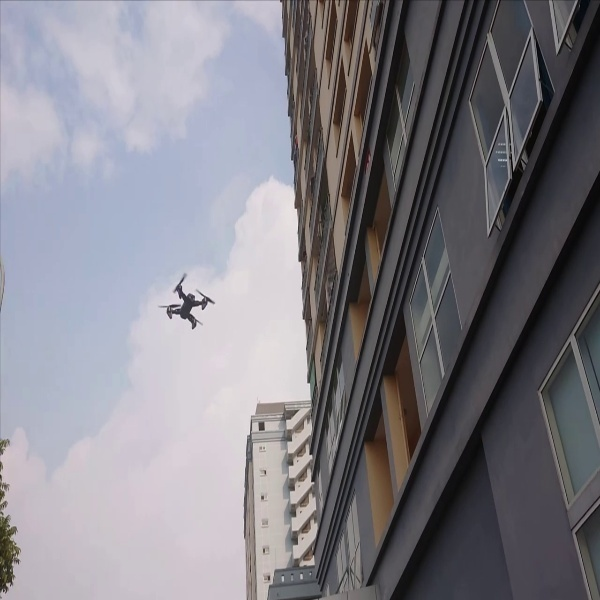drone: (152, 264, 221, 341)
